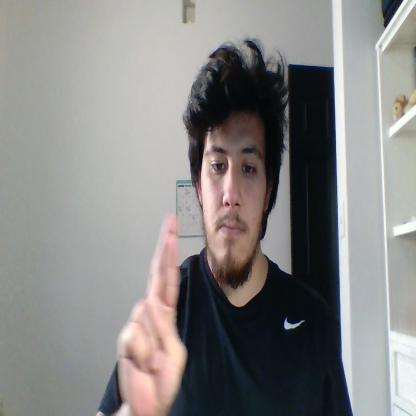R: (117, 212, 187, 415)
